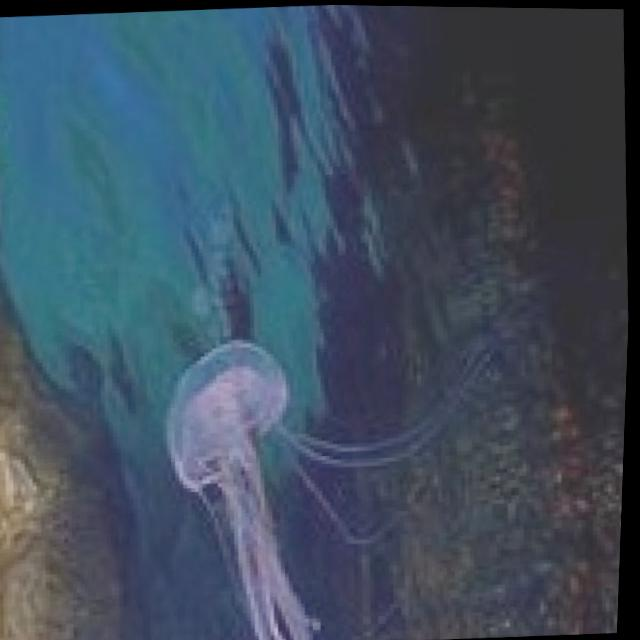Moon-jellyfish: (111, 299, 454, 640)
